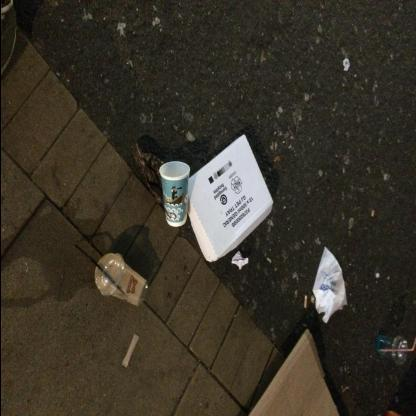karton: (186, 136, 274, 264), (159, 162, 191, 229)
plastik: (74, 246, 148, 308), (313, 248, 349, 325), (375, 333, 416, 366)
